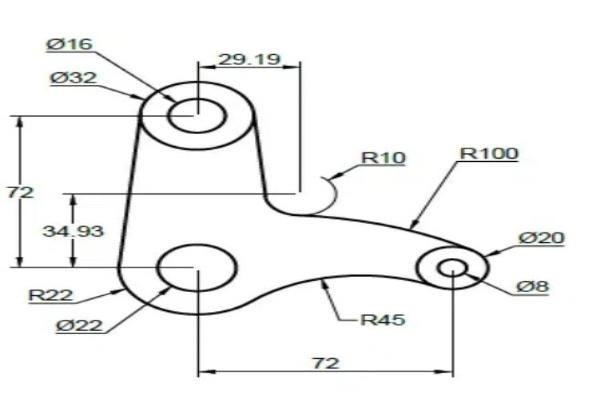dimensions: (209, 42, 286, 66), (35, 218, 113, 239), (456, 140, 524, 162), (22, 280, 77, 306), (36, 65, 98, 88), (52, 310, 105, 335), (354, 309, 408, 332), (354, 147, 416, 166), (514, 228, 569, 248), (43, 33, 97, 53), (511, 275, 554, 297), (3, 182, 39, 208), (305, 350, 346, 372)
